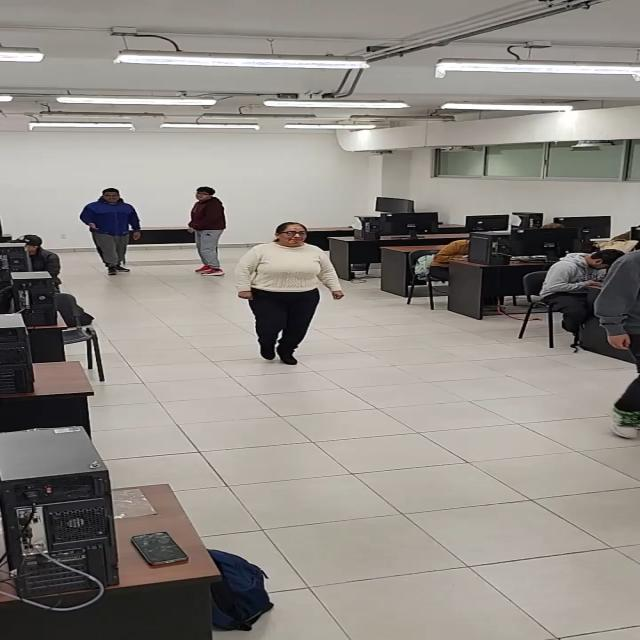Persona: (232, 221, 346, 366), (79, 188, 141, 276), (187, 186, 228, 276)
